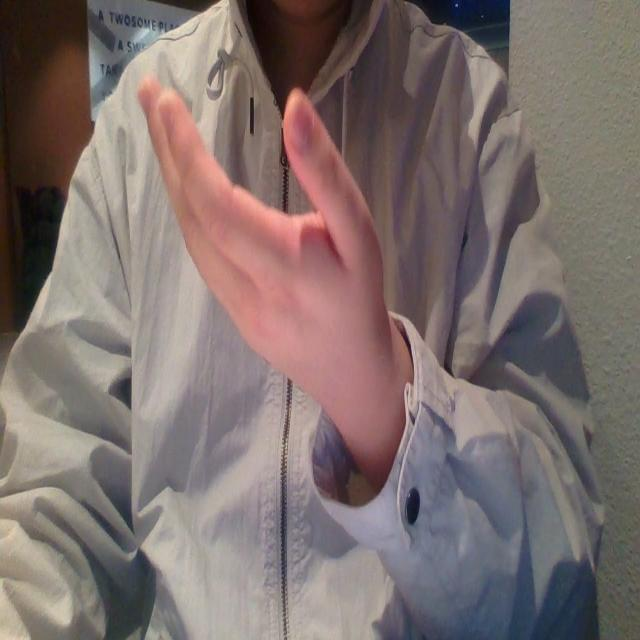hand: (120, 69, 425, 427)
